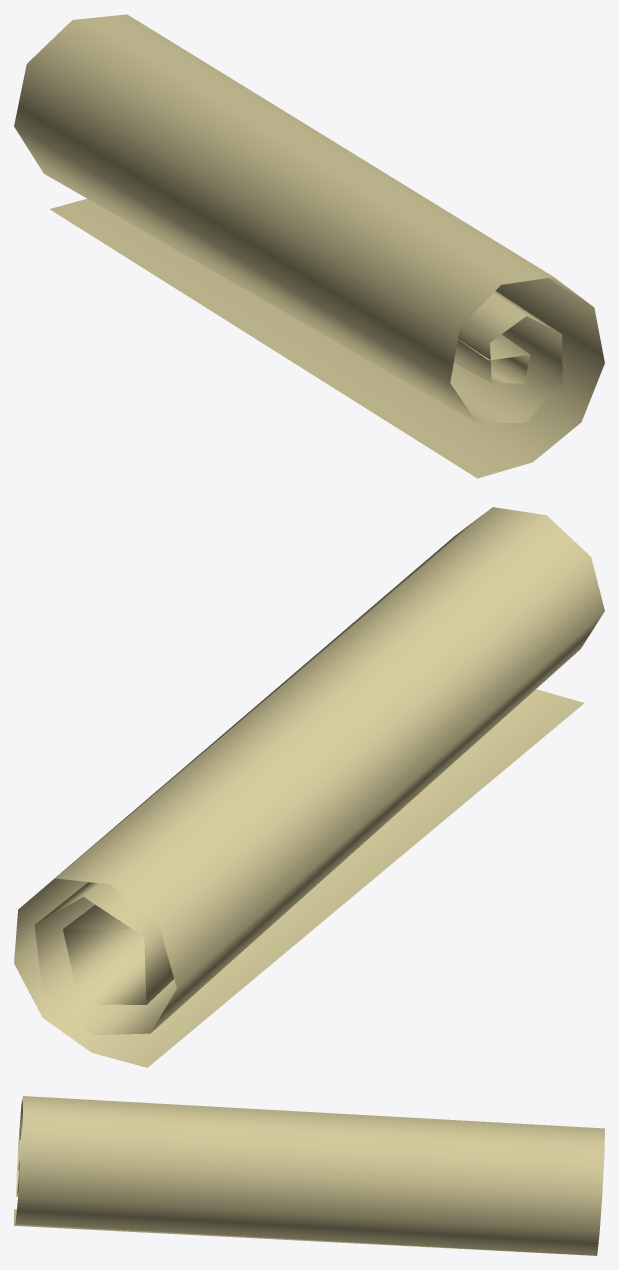
File: Rolled Up Single Scroll 002.FBX
The picture shows the model from 3 angles, top to bottom: view 1: azimuth 30°, elevation 25°; view 2: azimuth 150°, elevation 25°; view 3: azimuth 270°, elevation 25°; orthographic projection. The views are drawn at different scales.
Parts seen in each view (by area): view 1: Rolled Up Single Scroll v002; view 2: Rolled Up Single Scroll v002; view 3: Rolled Up Single Scroll v002.
Boxes of the visible parts, x1,y1,x2,y2 form: Rolled Up Single Scroll v002: (14, 14, 604, 478); Rolled Up Single Scroll v002: (14, 507, 604, 1067); Rolled Up Single Scroll v002: (14, 1096, 604, 1255).
Bounding box in the file's own units: 0.0691 × 0.0914 × 0.3198.
